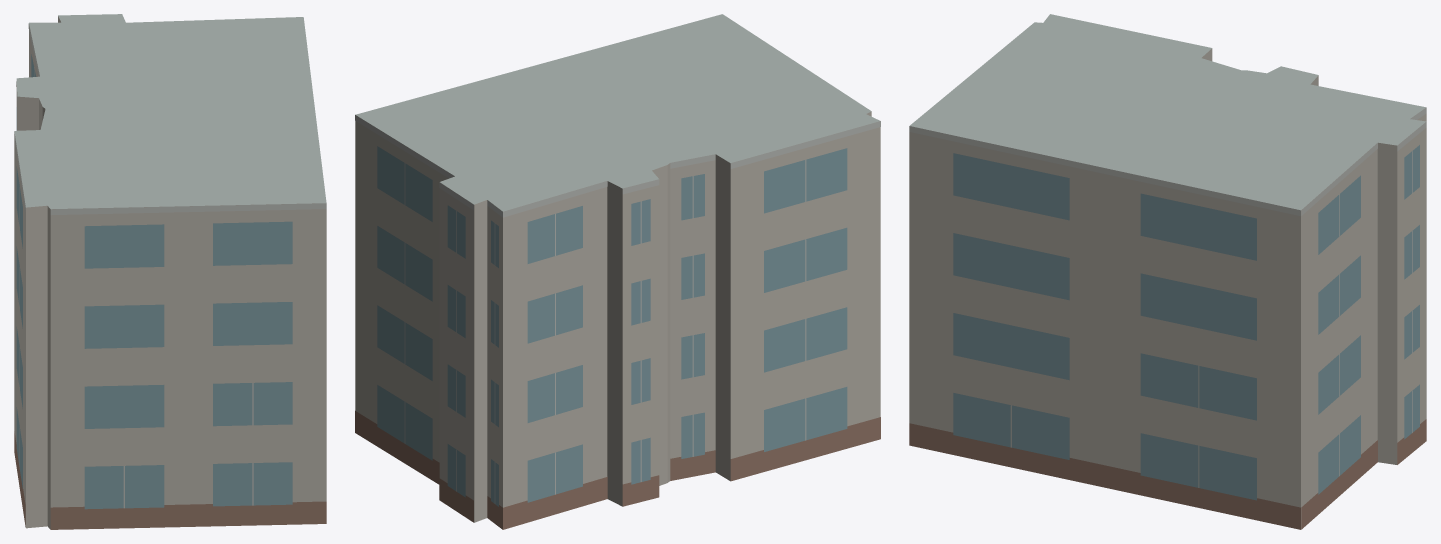
The model's file is survey-upis-32727635.glb.
The picture shows the model from 3 angles, left to right: view 1: azimuth 30°, elevation 25°; view 2: azimuth 150°, elevation 25°; view 3: azimuth 270°, elevation 25°; orthographic projection.
Parts seen in each view (by area): view 1: survey-upis-32727635.tmp; view 2: survey-upis-32727635.tmp; view 3: survey-upis-32727635.tmp.
Part boxes in pixels (bbox=[...]): survey-upis-32727635.tmp: bbox=[14, 14, 326, 529]; survey-upis-32727635.tmp: bbox=[355, 14, 880, 529]; survey-upis-32727635.tmp: bbox=[909, 14, 1426, 529].
Bounding box in the file's own units: 17.14 × 13 × 19.08.
